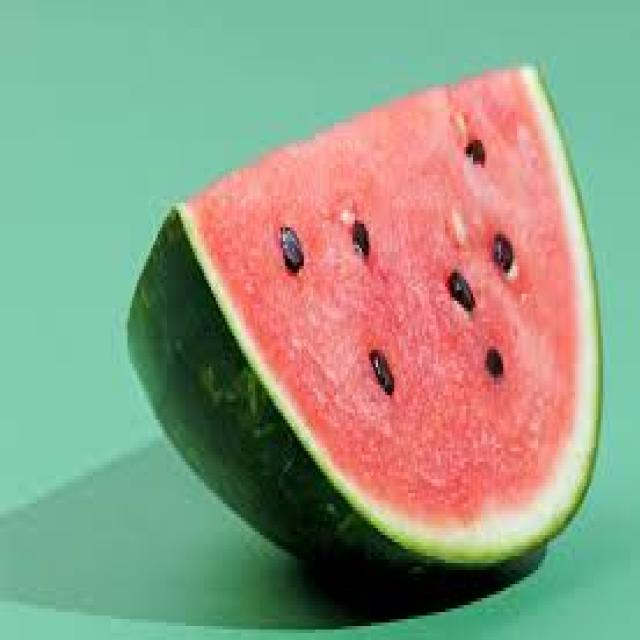watermelon: (125, 59, 603, 616)
